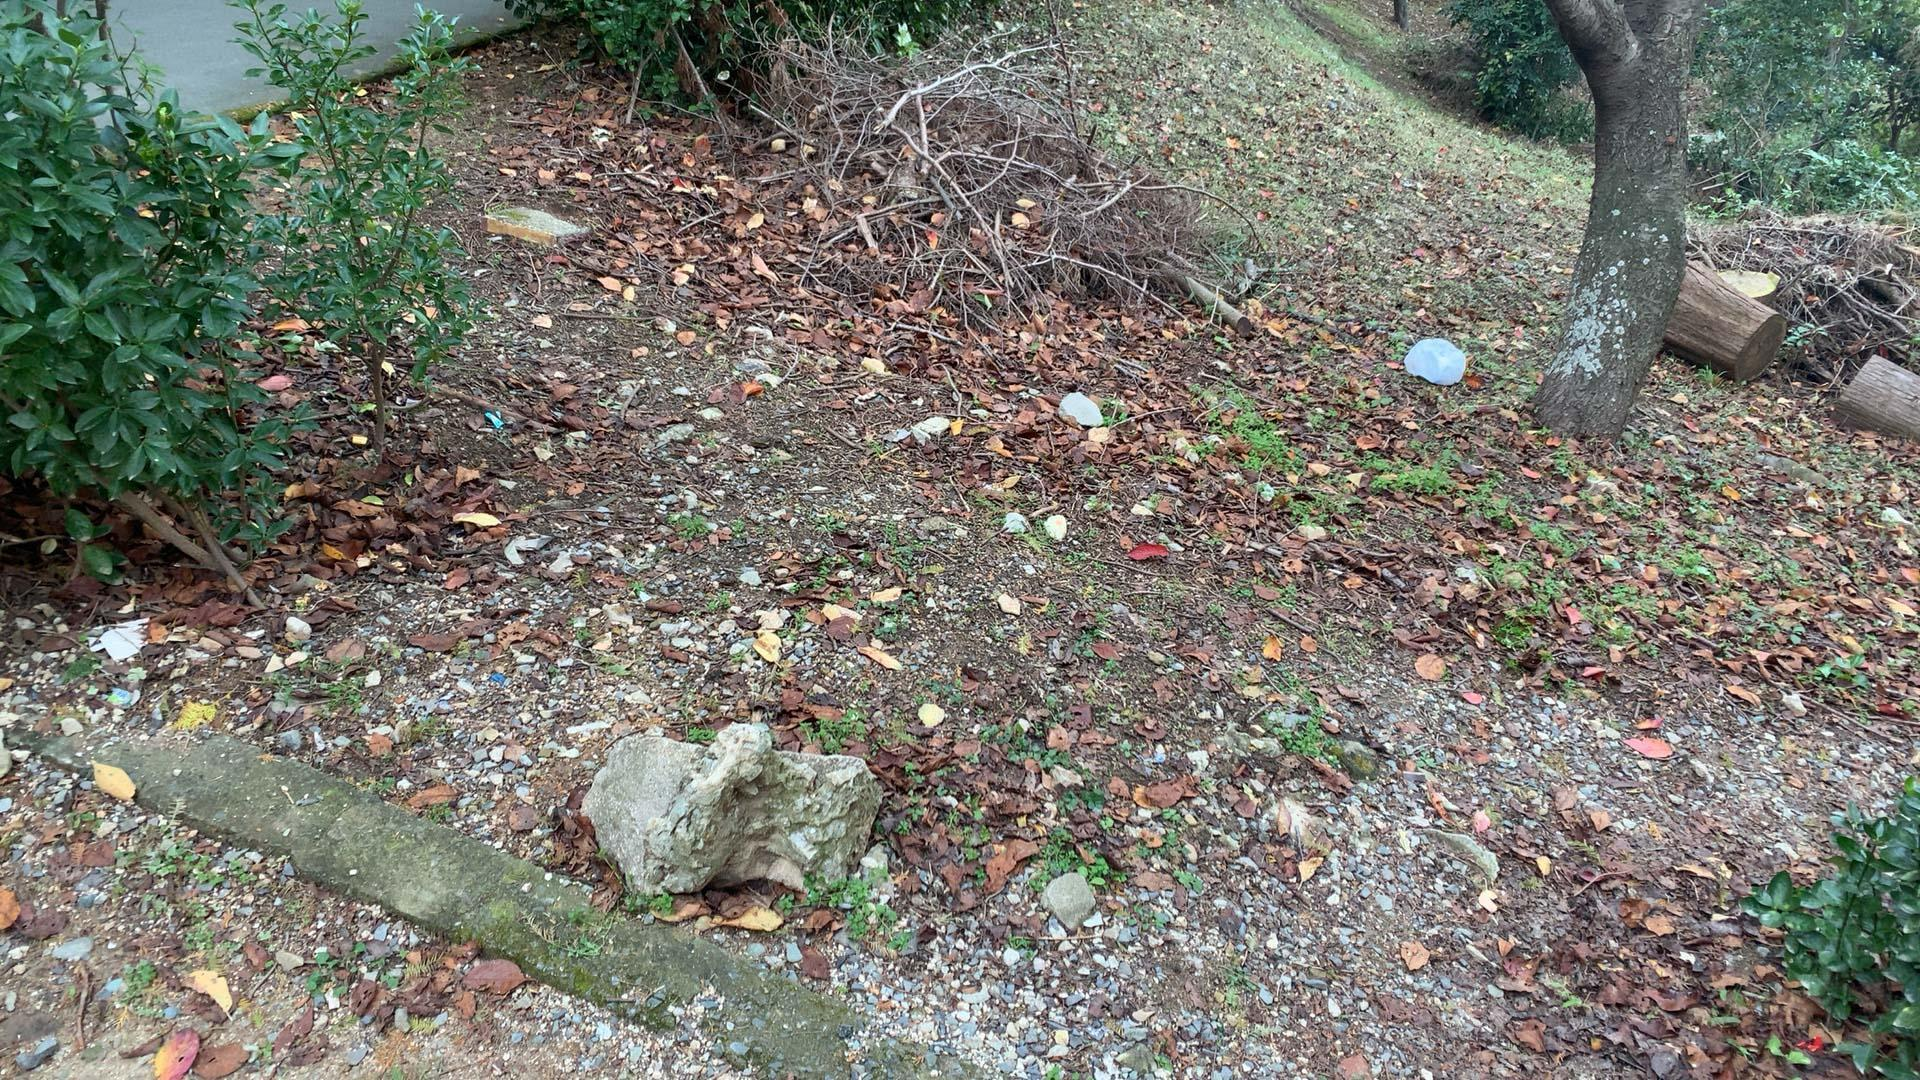white_bag: (1398, 334, 1464, 389)
